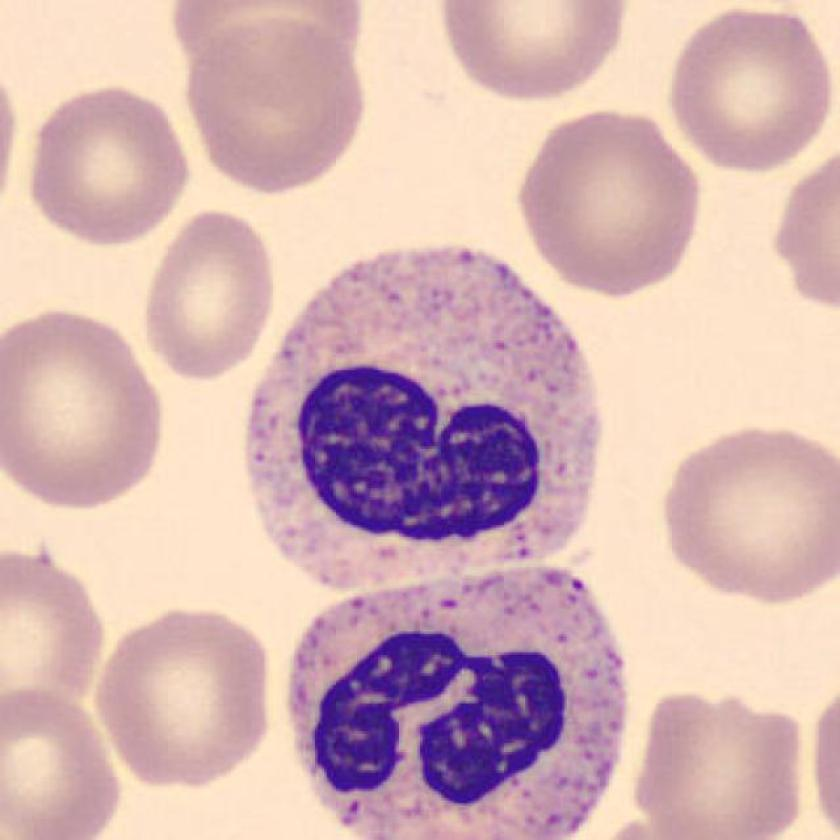neutrophil: (249, 250, 597, 588), (287, 569, 627, 840)
